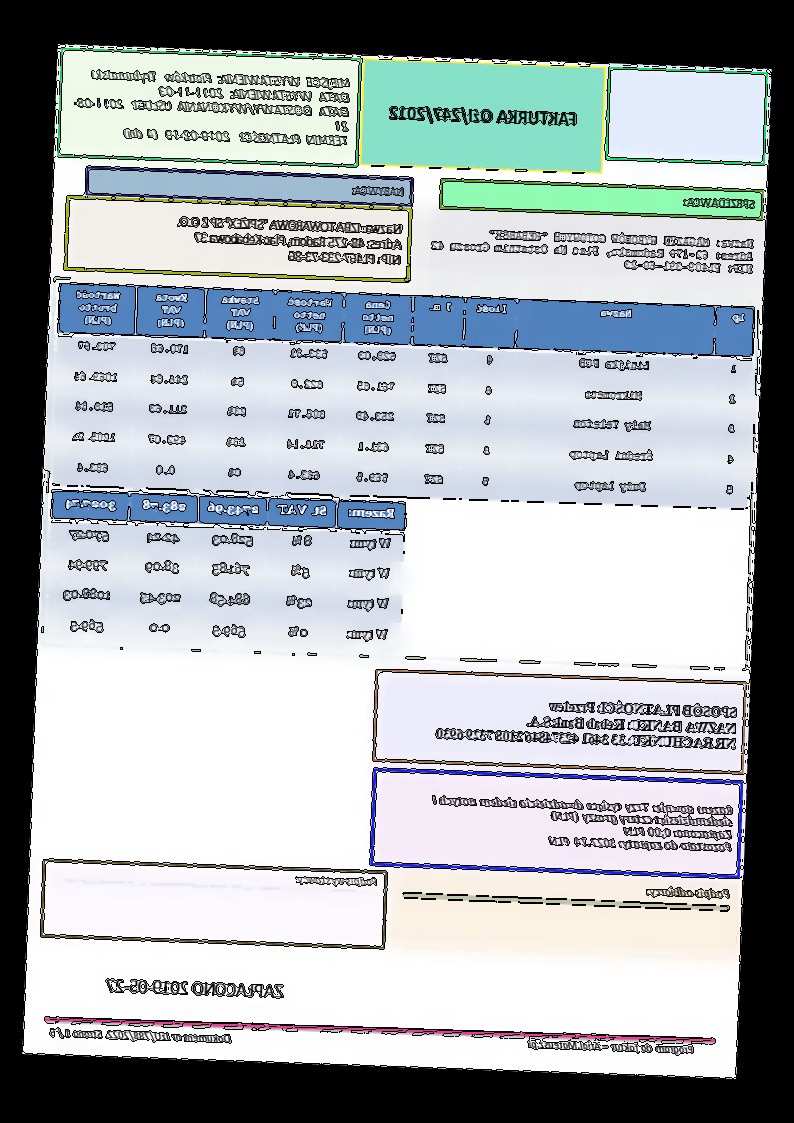Table: (52, 280, 756, 510), (47, 490, 407, 654)
TextBox: (71, 65, 355, 149), (428, 793, 735, 855), (435, 692, 739, 752), (430, 226, 756, 276), (176, 215, 405, 267), (387, 103, 579, 130), (103, 974, 287, 1000), (48, 1025, 234, 1046), (525, 1037, 698, 1057), (645, 884, 733, 901), (682, 195, 757, 212), (294, 873, 379, 888), (351, 182, 407, 200)
